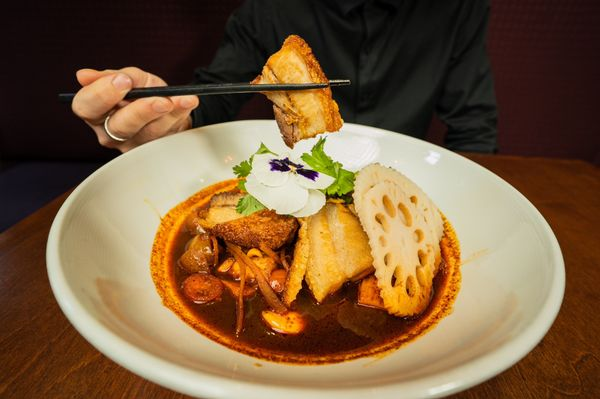curry: (23, 34, 595, 399)
